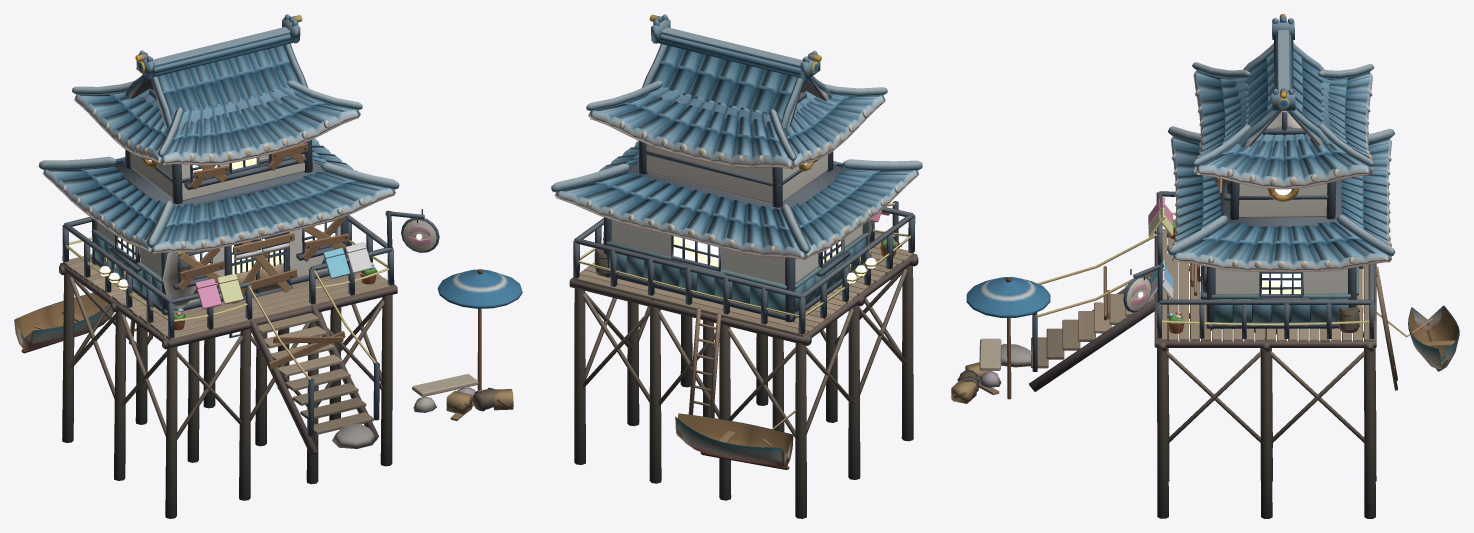
File: zv-tidepool-inn.glb
3 renders of one model, left to right at view 1: azimuth 30°, elevation 25°; view 2: azimuth 150°, elevation 25°; view 3: azimuth 270°, elevation 25°, orthographic. The views are drawn at different scales.
Parts seen in each view (by area): view 1: zv-tidepool-inn, siege, saved, window_glow; view 2: zv-tidepool-inn, window_glow; view 3: zv-tidepool-inn, saved, siege, window_glow.
Part boxes in pixels (bbox=[...]): zv-tidepool-inn: bbox=[14, 14, 478, 518]; siege: bbox=[162, 143, 513, 420]; saved: bbox=[174, 232, 522, 390]; window_glow: bbox=[100, 158, 422, 289]; zv-tidepool-inn: bbox=[551, 14, 922, 518]; window_glow: bbox=[673, 163, 876, 283]; zv-tidepool-inn: bbox=[979, 14, 1459, 518]; saved: bbox=[966, 196, 1184, 399]; siege: bbox=[951, 178, 1225, 403]; window_glow: bbox=[1138, 189, 1300, 297].
Size of the model in its own units: 5.25 by 7.19 by 8.06.
